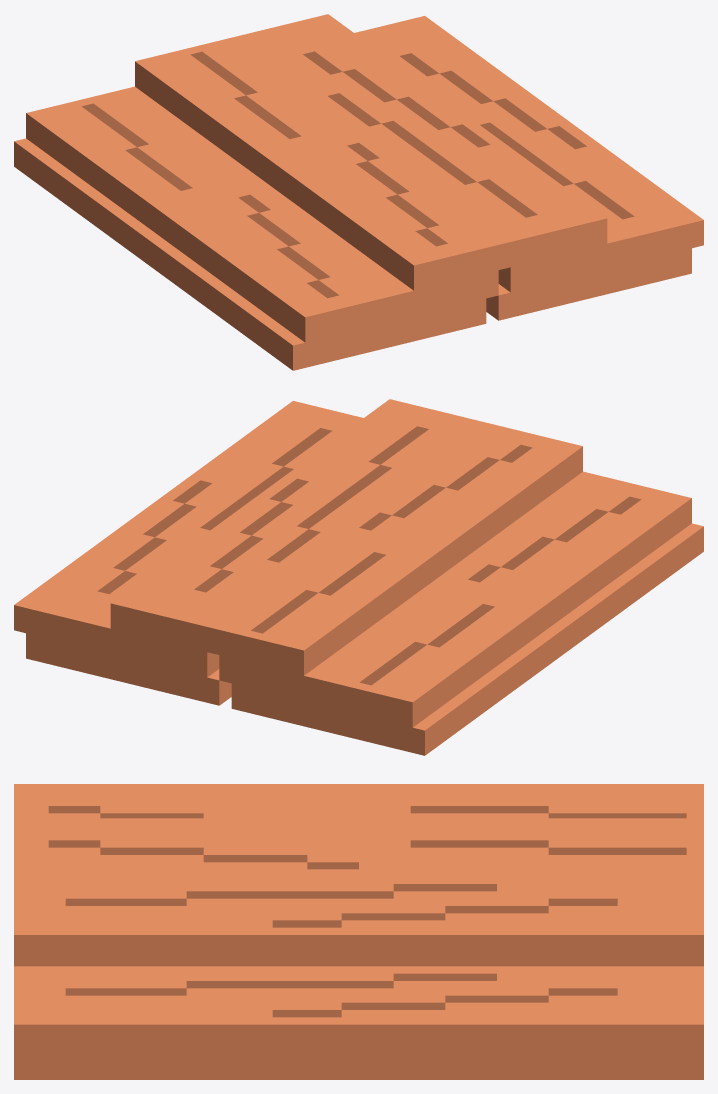
Rendered from planks.obj.
3 views of the same model, one above another, from view 1: azimuth 30°, elevation 25°; view 2: azimuth 150°, elevation 25°; view 3: azimuth 270°, elevation 25° (orthographic). The views are drawn at different scales.
Size of the model in its own units: 3.4 by 0.6 by 4.
1 material, 1 textured.
